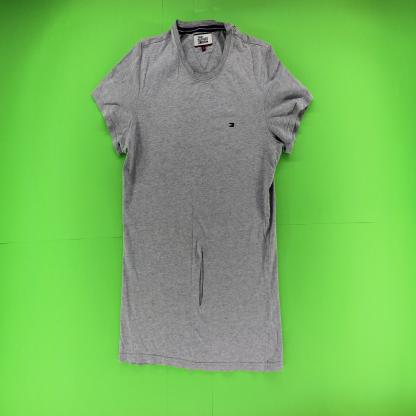hole: (198, 244, 205, 309)
